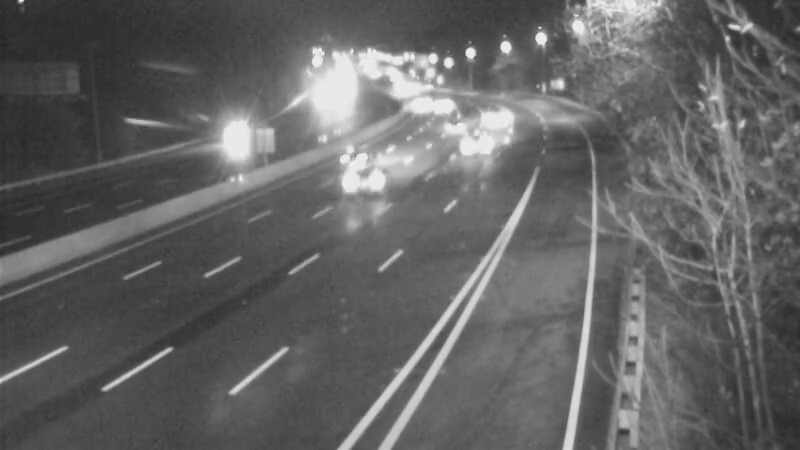vehicle: (312, 111, 392, 191), (321, 133, 401, 213), (418, 78, 468, 128), (386, 80, 436, 130), (422, 105, 472, 155), (465, 88, 515, 138), (458, 122, 508, 172), (210, 115, 260, 165)
